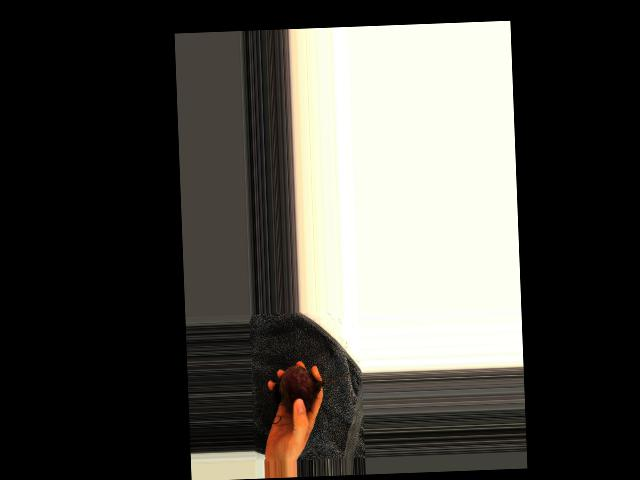beet: (273, 362, 352, 414)
